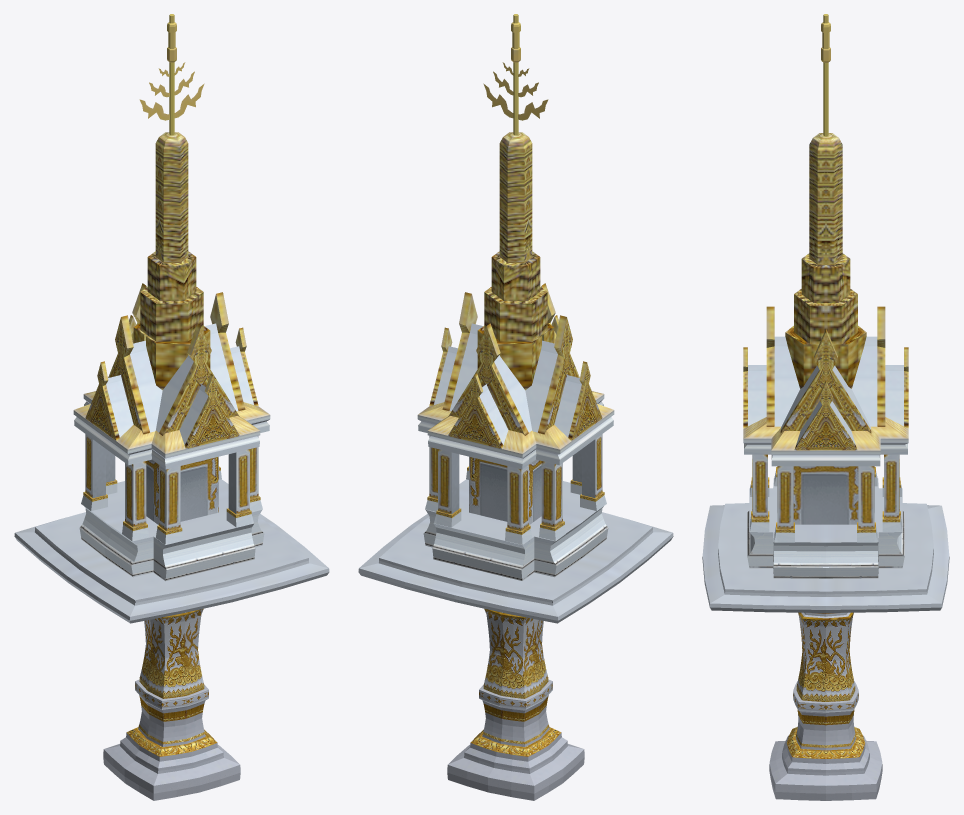
File: spirit_house_1784489220440_model.glb
3 renders of one model, left to right at view 1: azimuth 30°, elevation 25°; view 2: azimuth 150°, elevation 25°; view 3: azimuth 270°, elevation 25°, orthographic.
Parts seen in each view (by area): view 1: Cube, Cylinder, Cube.009, Cube.003, Cube.002, Cube.001, Cube.004, Cube.007, Cube.006, Cube.005, Plane; view 2: Cube, Cylinder, Cube.009, Cube.003, Cube.002, Cube.001, Cube.004, Cube.007, Cube.006, Cube.005, Plane; view 3: Cube, Cylinder, Cube.004, Cube.003, Cube.006, Cube.009, Cube.005, Cube.002, Cube.001, Cube.007.
Boxes of the visible parts, x1=… form: Cube: x1=14, y1=479, x2=329, y2=800; Cylinder: x1=133, y1=132, x2=210, y2=390; Cube.009: x1=108, y1=292, x2=245, y2=434; Cube.003: x1=73, y1=391, x2=270, y2=469; Cube.002: x1=81, y1=434, x2=262, y2=541; Cube.001: x1=106, y1=449, x2=253, y2=544; Cube.004: x1=131, y1=283, x2=239, y2=435; Cube.007: x1=85, y1=327, x2=258, y2=440; Cube.006: x1=146, y1=456, x2=218, y2=524; Cube.005: x1=129, y1=315, x2=239, y2=448; Plane: x1=139, y1=83, x2=204, y2=120; Cube: x1=358, y1=479, x2=673, y2=800; Cylinder: x1=477, y1=132, x2=554, y2=390; Cube.009: x1=442, y1=292, x2=579, y2=434; Cube.003: x1=417, y1=391, x2=614, y2=469; Cube.002: x1=425, y1=434, x2=606, y2=541; Cube.001: x1=434, y1=449, x2=581, y2=544; Cube.004: x1=448, y1=283, x2=556, y2=435; Cube.007: x1=429, y1=327, x2=602, y2=440; Cube.006: x1=469, y1=456, x2=541, y2=524; Cube.005: x1=448, y1=315, x2=558, y2=448; Plane: x1=483, y1=83, x2=548, y2=120; Cube: x1=702, y1=478, x2=949, y2=800; Cylinder: x1=785, y1=133, x2=866, y2=388; Cube.004: x1=766, y1=306, x2=885, y2=426; Cube.003: x1=743, y1=417, x2=908, y2=466; Cube.006: x1=793, y1=466, x2=858, y2=524; Cube.009: x1=780, y1=329, x2=871, y2=433; Cube.005: x1=743, y1=347, x2=908, y2=428; Cube.002: x1=774, y1=466, x2=877, y2=542; Cube.001: x1=750, y1=454, x2=901, y2=531; Cube.007: x1=794, y1=381, x2=857, y2=450.
Size of the model in its own units: 1.68 by 5.79 by 1.7.
1 material, 1 textured.
